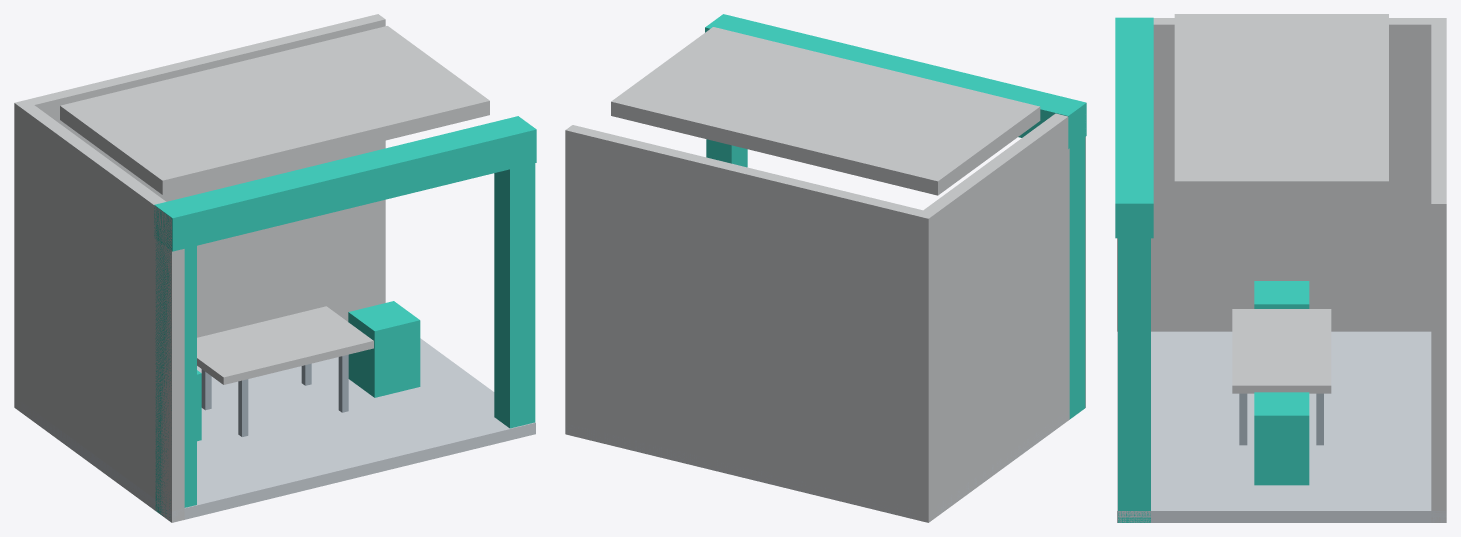
The picture shows the model from 3 angles, left to right: view 1: azimuth 30°, elevation 25°; view 2: azimuth 150°, elevation 25°; view 3: azimuth 270°, elevation 25°; orthographic projection. The views are drawn at different scales.
Parts seen in each view (by area): view 1: Exhibition Booth Concept; view 2: Exhibition Booth Concept; view 3: Exhibition Booth Concept.
Part boxes in pixels (x1,y1,x2,y2): Exhibition Booth Concept: [14, 14, 536, 522]; Exhibition Booth Concept: [565, 14, 1086, 522]; Exhibition Booth Concept: [1115, 14, 1446, 522].
Bounding box in the file's own units: 4 × 3.34 × 3.01.
